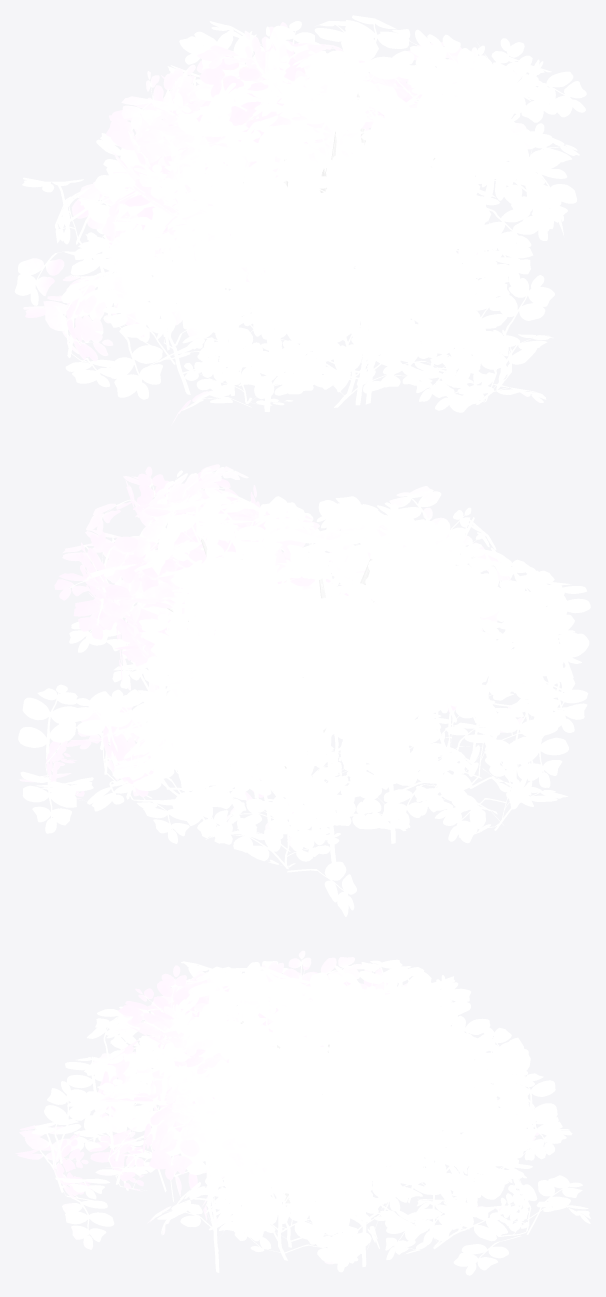
3 views of the same model, one above another, from view 1: azimuth 30°, elevation 25°; view 2: azimuth 150°, elevation 25°; view 3: azimuth 270°, elevation 25° (orthographic). The views are drawn at different scales.
Parts seen in each view (by area): view 1: SM_Medium_Bush_01_A_LOD0; view 2: SM_Medium_Bush_01_A_LOD0; view 3: SM_Medium_Bush_01_A_LOD0.
Boxes of the visible parts, x1,y1,x2,y2 form: SM_Medium_Bush_01_A_LOD0: (14,15,586,425); SM_Medium_Bush_01_A_LOD0: (18,464,590,916); SM_Medium_Bush_01_A_LOD0: (15,950,590,1275).
Size of the model in its own units: 1.74 by 1.08 by 2.03.
Materials: 1 (1 with a texture image).
